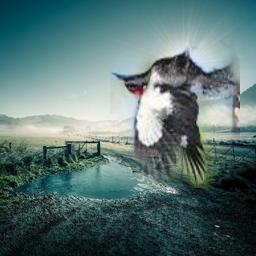Woodpecker: (110, 25, 240, 188)
